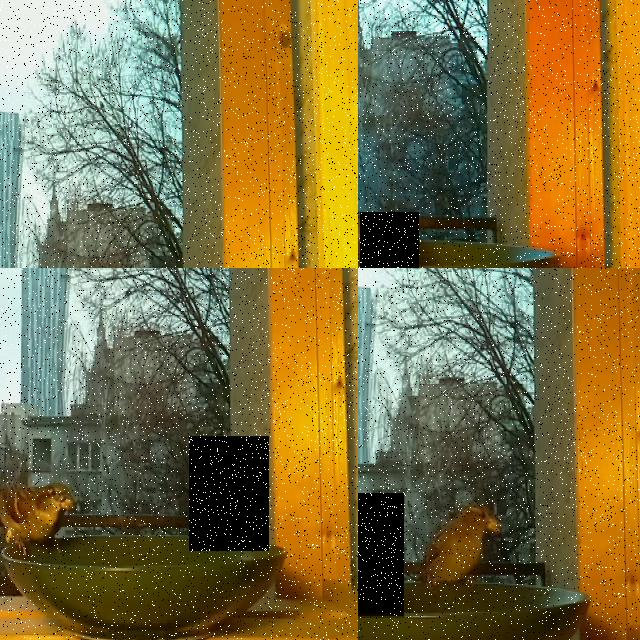Bogatka: (189, 436, 269, 551), (358, 493, 404, 617)
Modraszka: (360, 212, 419, 268)
Wrobel: (414, 500, 503, 595), (0, 476, 80, 560)
